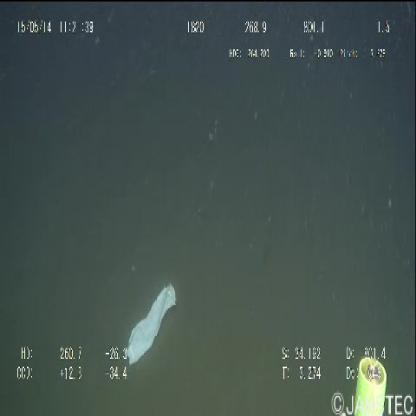Rác: (122, 279, 181, 370)
